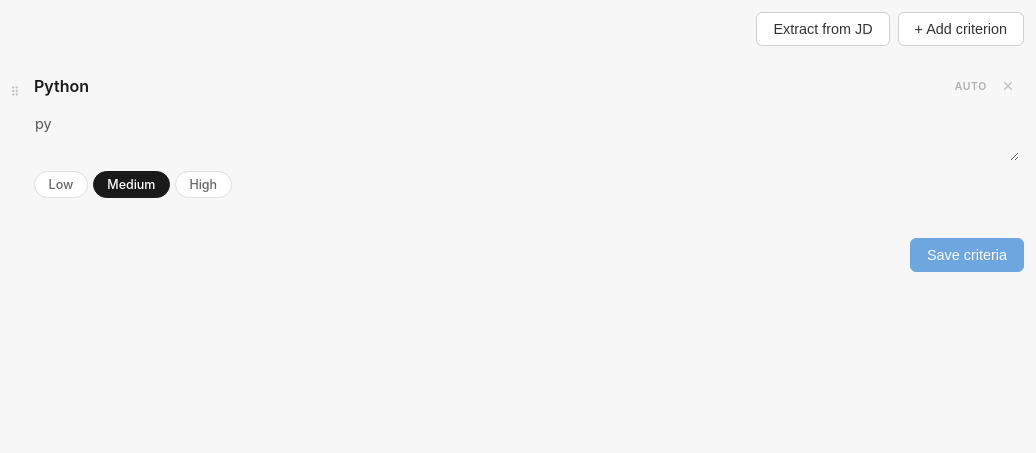
Test case: CriteriaTab › Add manually appends an empty draft row
expect the field showing "Python" is shown: met, box [34, 74, 945, 99]
What coordinates should you click on to do the following:
click the button "+ Add criterion"
I would click on:
 (961, 29)
Its box is [898, 12, 1024, 46].
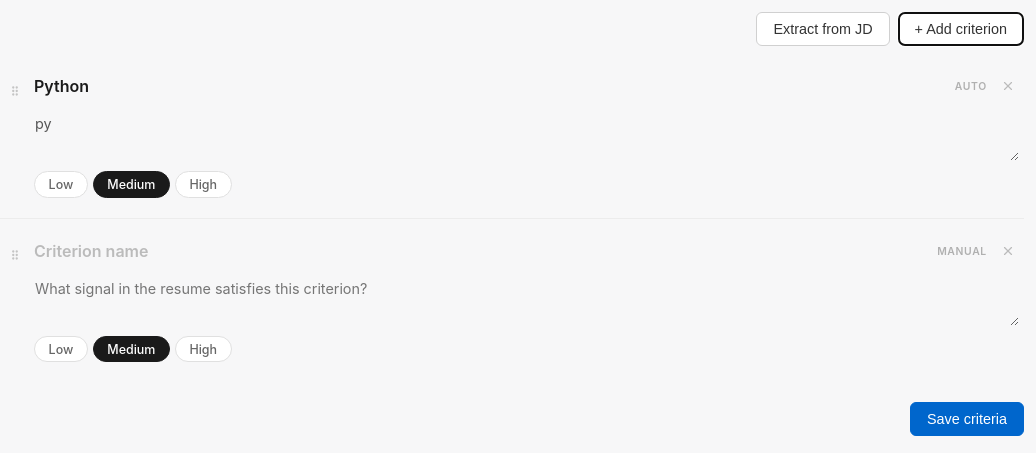
expect the text "MANUAL" is shown: met, box [937, 245, 987, 258]
